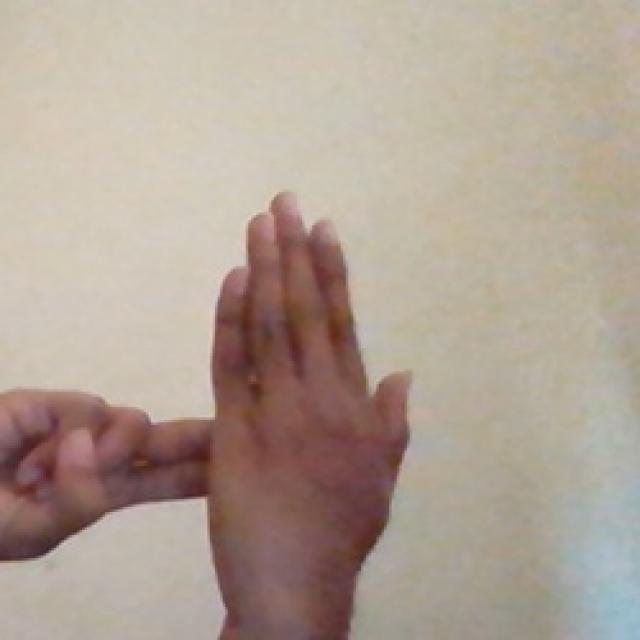Alphabet-N: (0, 169, 438, 635)
